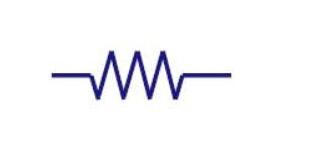resistor: (69, 44, 205, 112)
